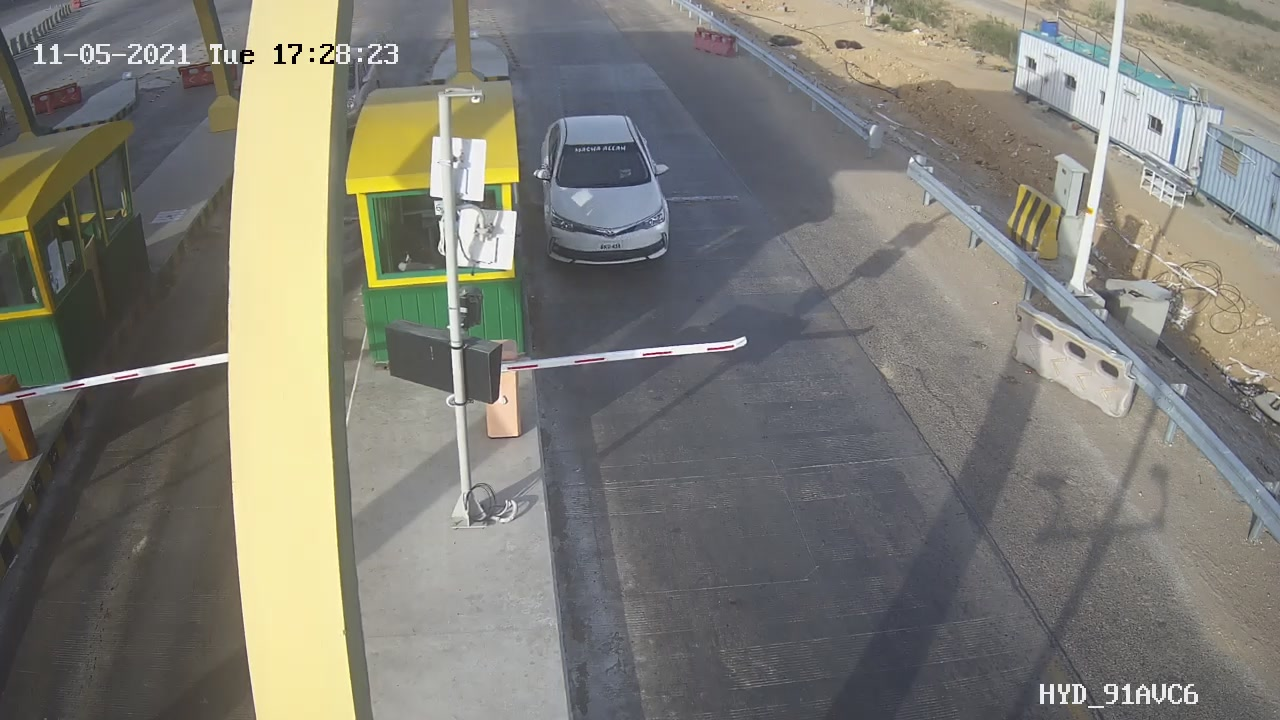F1: (522, 101, 694, 290)
